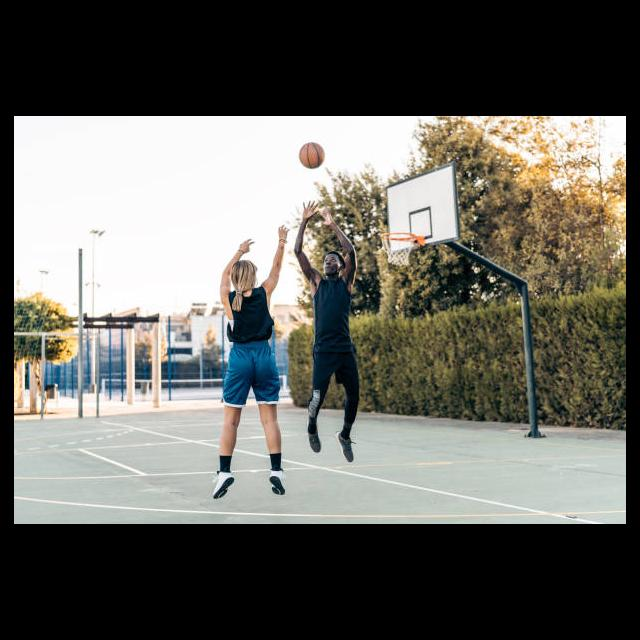basketball: (298, 142, 325, 169)
hoop: (383, 232, 416, 266)
